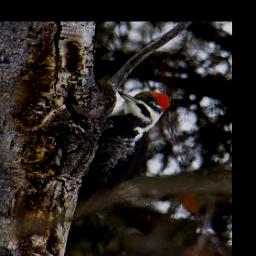Woodpecker: (80, 88, 175, 205)
